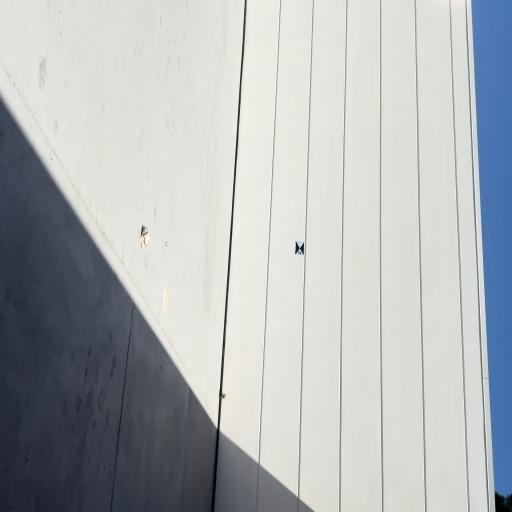target7: (295, 240, 305, 257)
